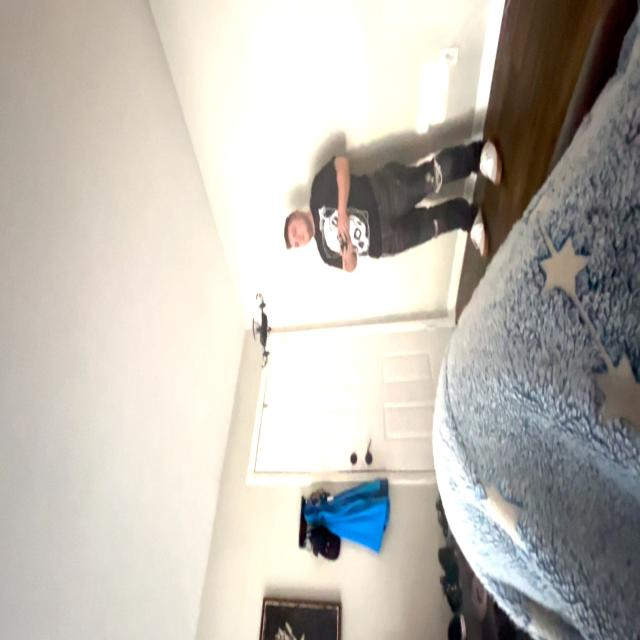drone: (246, 282, 278, 378)
